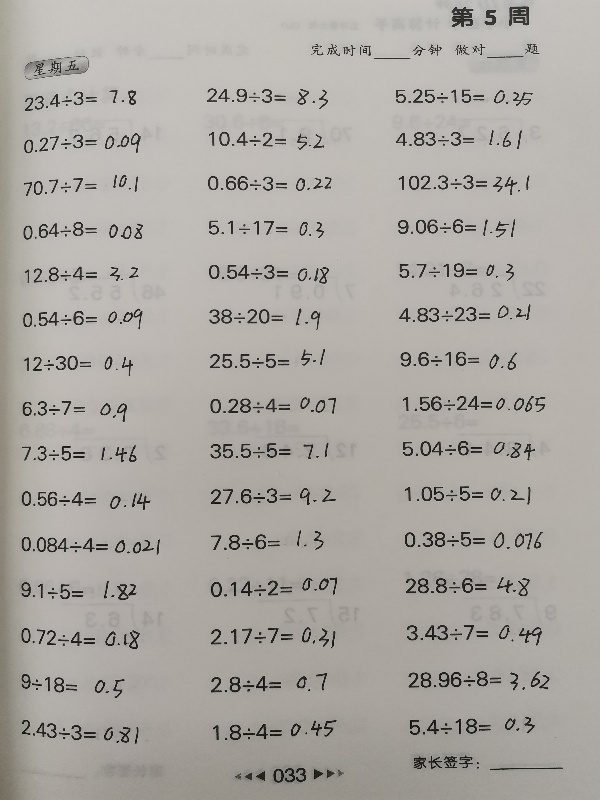equation: (388, 123, 537, 155), (16, 573, 147, 607), (201, 524, 337, 556), (12, 395, 146, 426), (404, 666, 553, 693), (402, 619, 545, 647), (204, 667, 335, 697), (12, 669, 133, 701), (12, 441, 146, 469), (399, 392, 549, 417), (394, 170, 532, 197), (17, 173, 150, 201), (207, 622, 338, 650), (401, 528, 547, 553), (398, 436, 538, 462), (19, 305, 146, 333), (403, 574, 534, 601), (203, 83, 331, 110), (394, 215, 520, 242), (17, 488, 153, 513), (19, 130, 144, 157), (17, 534, 163, 557), (206, 574, 340, 599), (400, 481, 534, 506), (206, 393, 340, 418), (395, 301, 534, 325), (391, 85, 536, 108), (205, 302, 323, 330), (16, 625, 143, 651), (19, 217, 146, 243), (209, 718, 341, 743), (208, 484, 340, 509), (204, 260, 332, 285), (405, 713, 538, 737), (18, 719, 142, 744), (396, 347, 520, 372), (206, 347, 328, 372), (395, 258, 517, 283), (203, 172, 335, 195), (20, 351, 136, 377), (207, 439, 332, 463), (204, 128, 328, 152), (204, 216, 327, 240), (21, 261, 141, 285), (21, 87, 139, 111)
